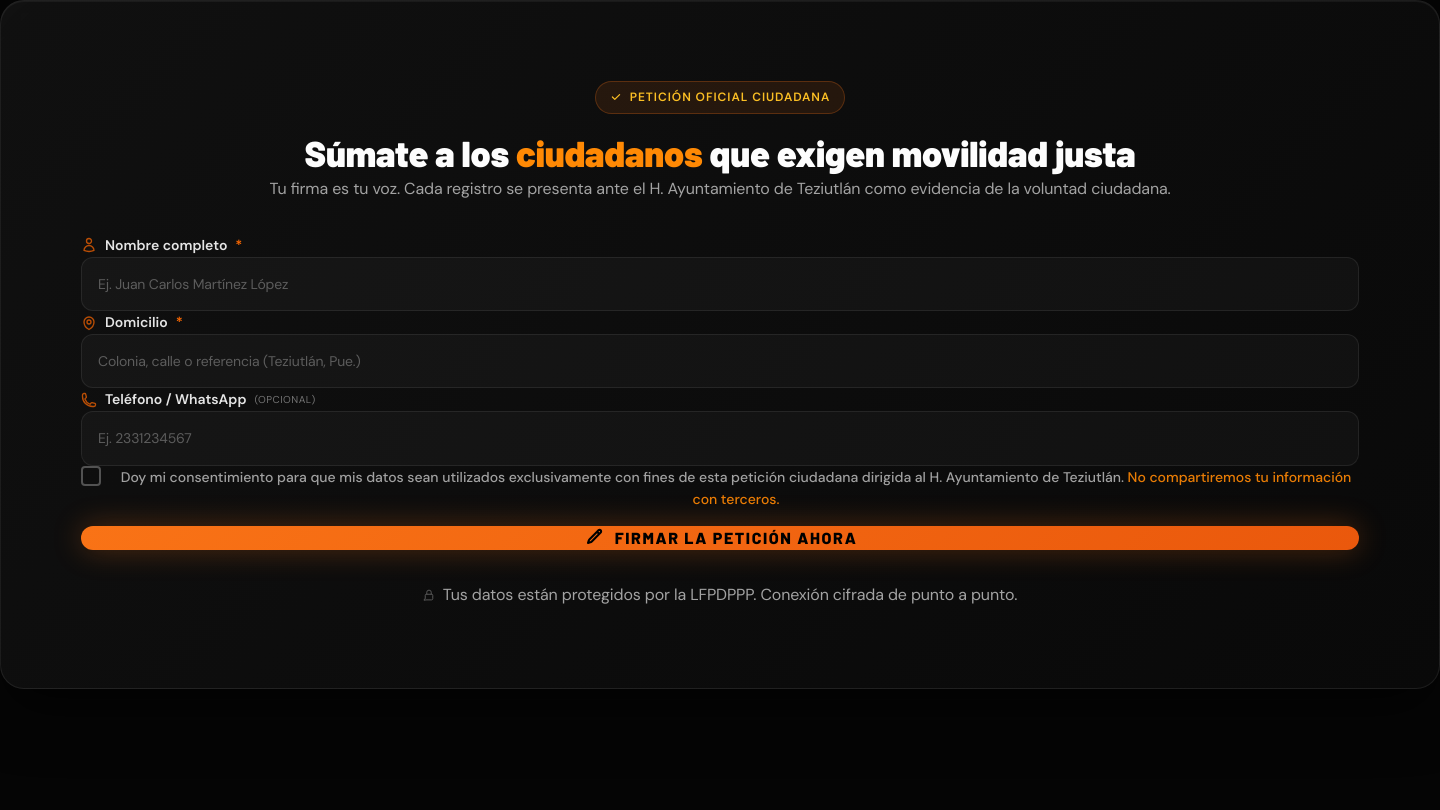
Test case: SignatureForm › shows validation errors for empty required fields
Click the button "Firmar la Petición ahora" at (720, 538), box [81,526,1359,550]
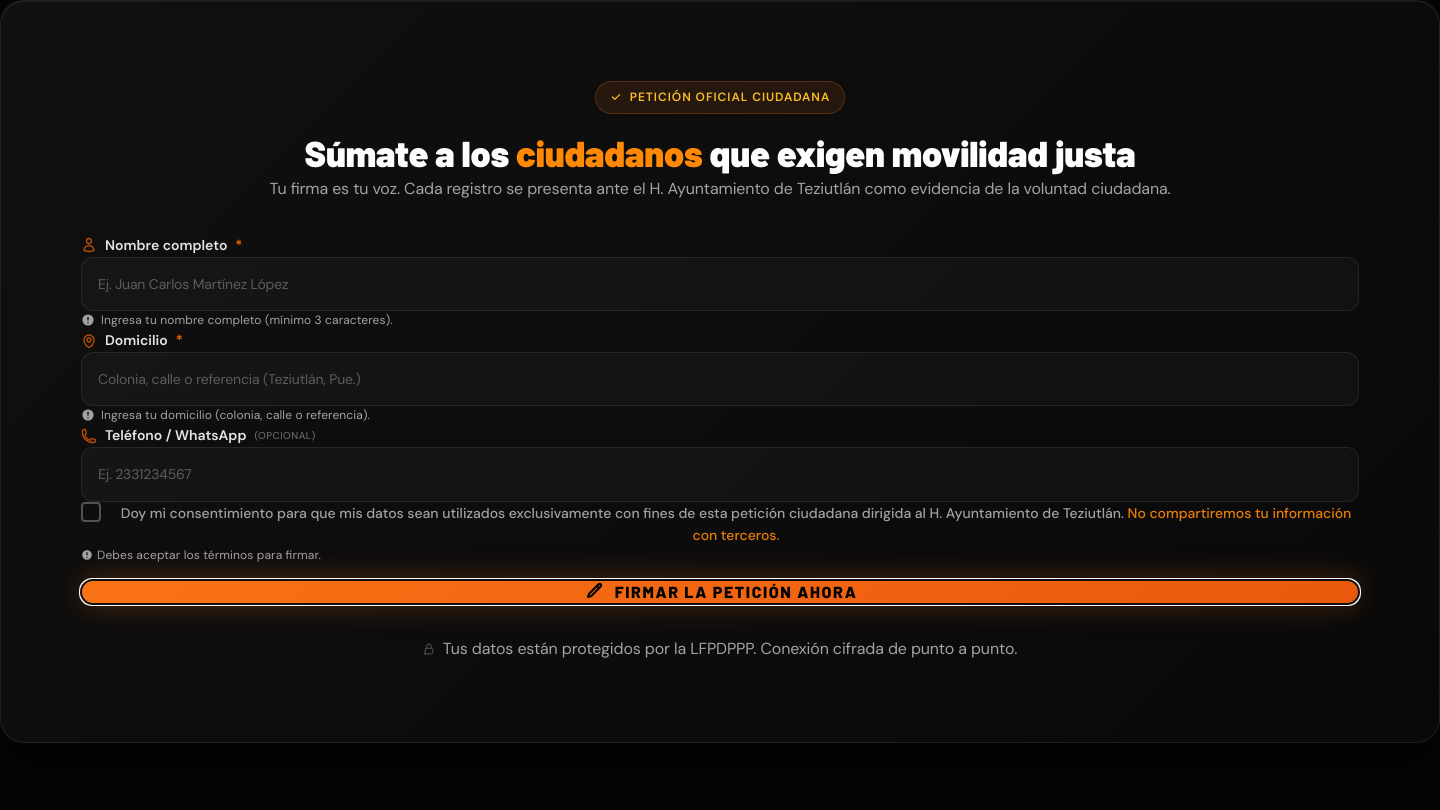
Result: the text "Ingresa tu nombre completo (mínimo 3 caracteres)." is shown at [81,312,393,328]
Result: the text "Ingresa tu domicilio (colonia, calle o referencia)." is shown at [81,408,370,424]
